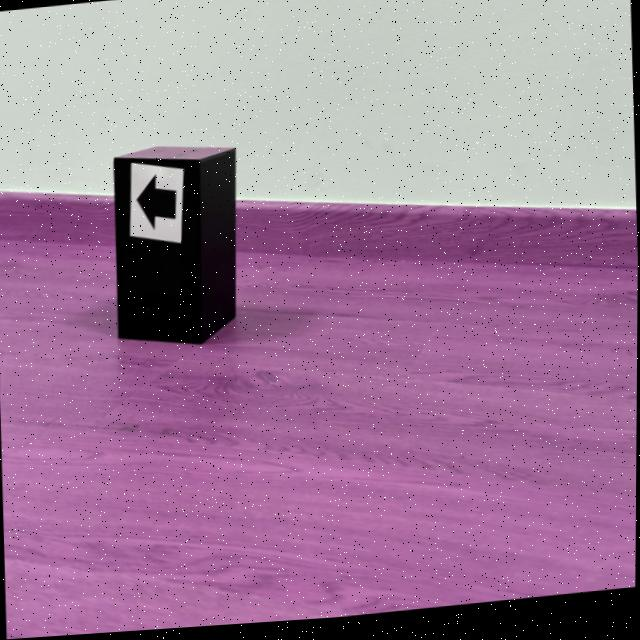LEFT: (137, 177, 176, 231)
